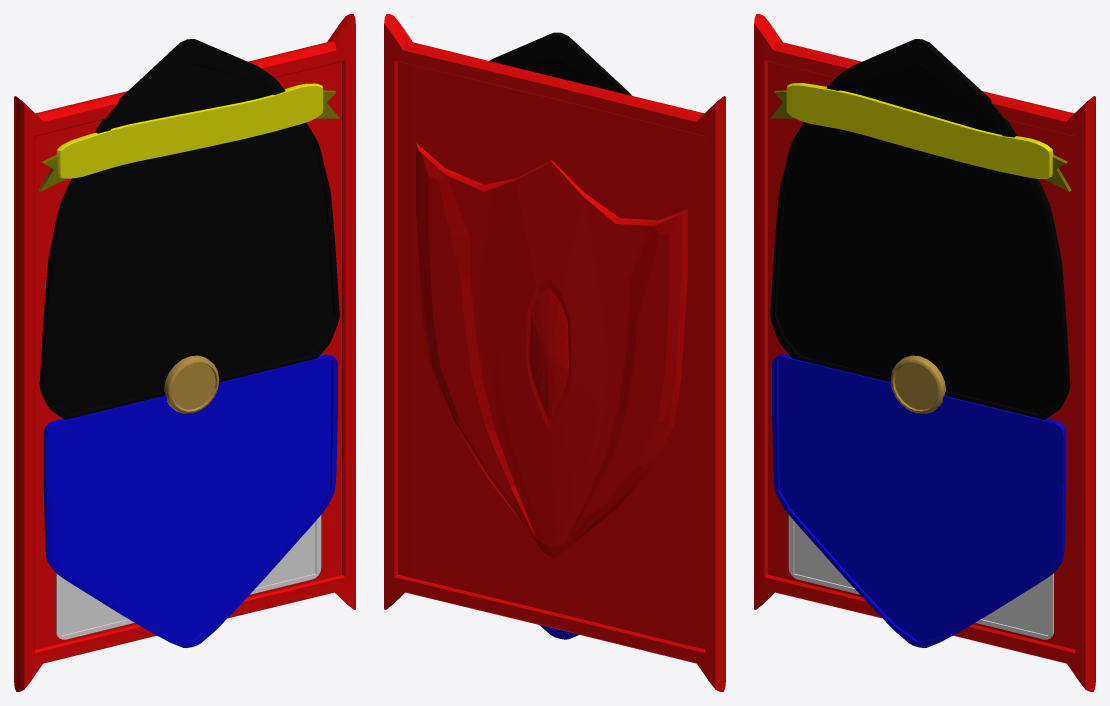
Rendered from CardModel_Shield.fbx.
3 views of the same model, side by side, from view 1: azimuth 30°, elevation 25°; view 2: azimuth 150°, elevation 25°; view 3: azimuth 330°, elevation 25° (orthographic).
Visible parts, largest first — view 1: CardModel_Shield; view 2: CardModel_Shield; view 3: CardModel_Shield.
Part boxes in pixels (x1=…): CardModel_Shield: x1=14, y1=14, x2=355, y2=691; CardModel_Shield: x1=384, y1=14, x2=725, y2=691; CardModel_Shield: x1=754, y1=14, x2=1095, y2=691.
Bounding box in the file's own units: 10.04 × 17.45 × 0.8721.
